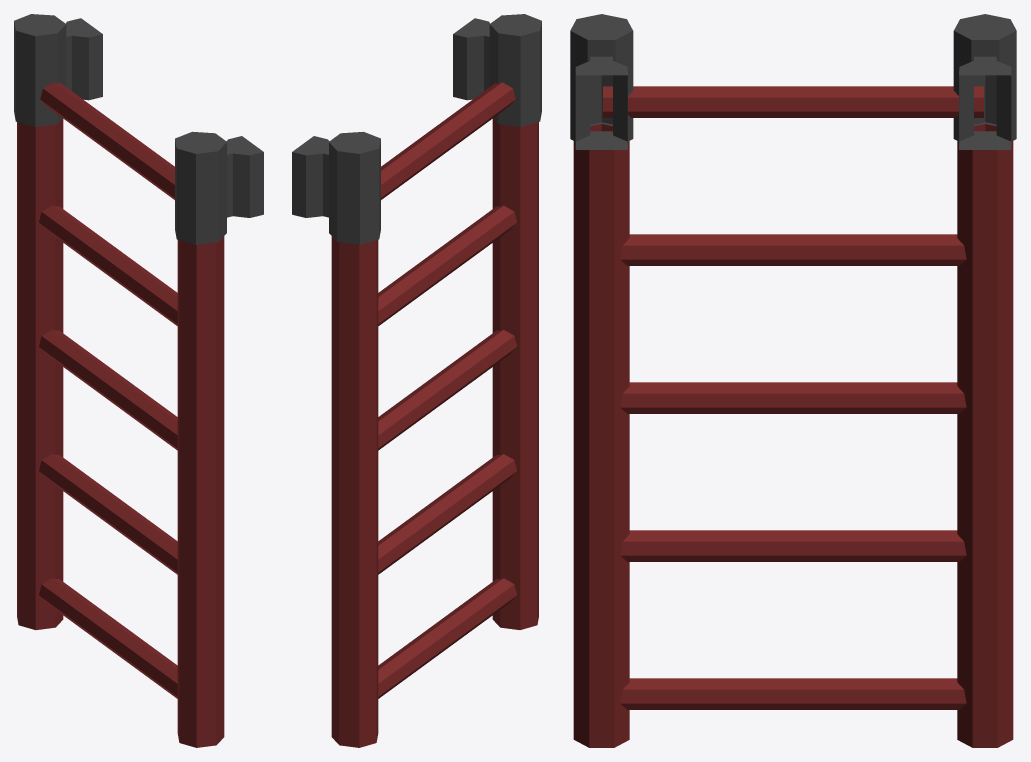
Rendered from VerticalLadder1-1.fbx.
The picture shows the model from 3 angles, left to right: view 1: azimuth 30°, elevation 25°; view 2: azimuth 150°, elevation 25°; view 3: azimuth 270°, elevation 25°; orthographic projection. The views are drawn at different scales.
Parts seen in each view (by area): view 1: VerticalLadder_LOD0.000; view 2: VerticalLadder_LOD0.000; view 3: VerticalLadder_LOD0.000.
Part boxes in pixels (left/top/right/bottom): VerticalLadder_LOD0.000: left=14, top=14, right=263, bottom=747; VerticalLadder_LOD0.000: left=292, top=14, right=541, bottom=747; VerticalLadder_LOD0.000: left=570, top=14, right=1016, bottom=747.
Size of the model in its own units: 44.5 by 332 by 189.
Materials: 1 (1 with a texture image).
